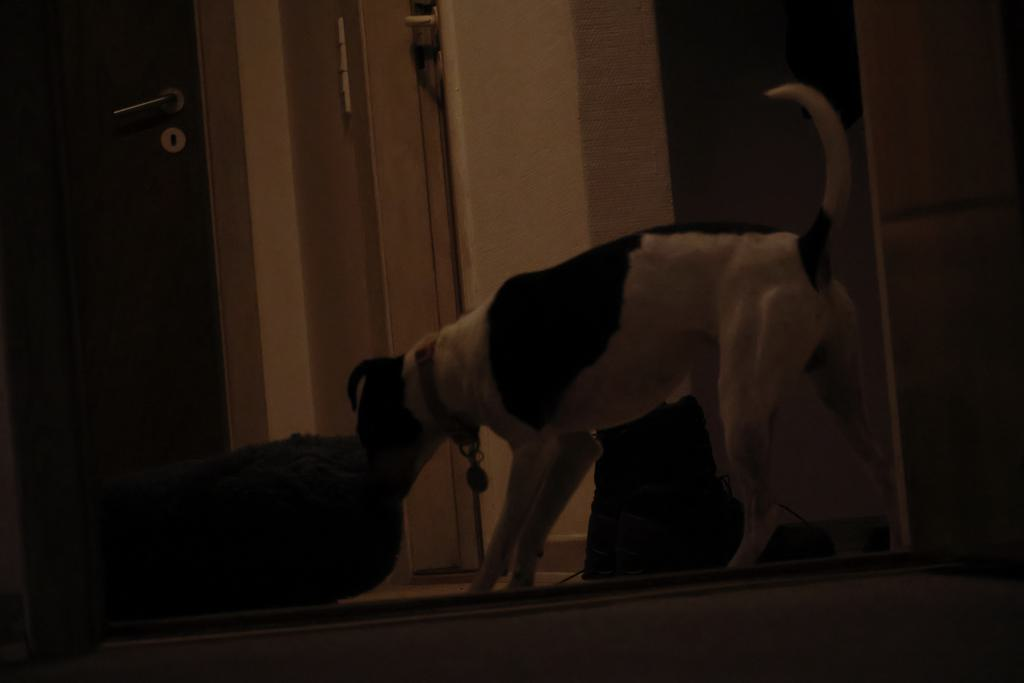Dog: (336, 70, 903, 598)
